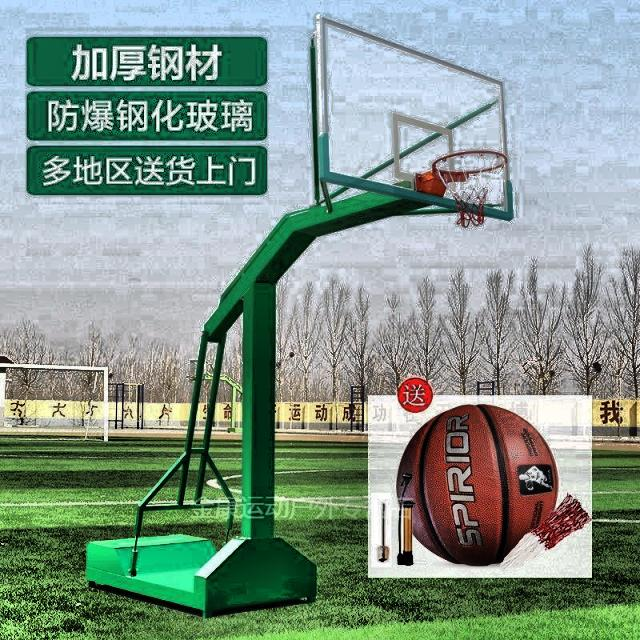board: (395, 405, 559, 568)
rim: (432, 150, 507, 226)
